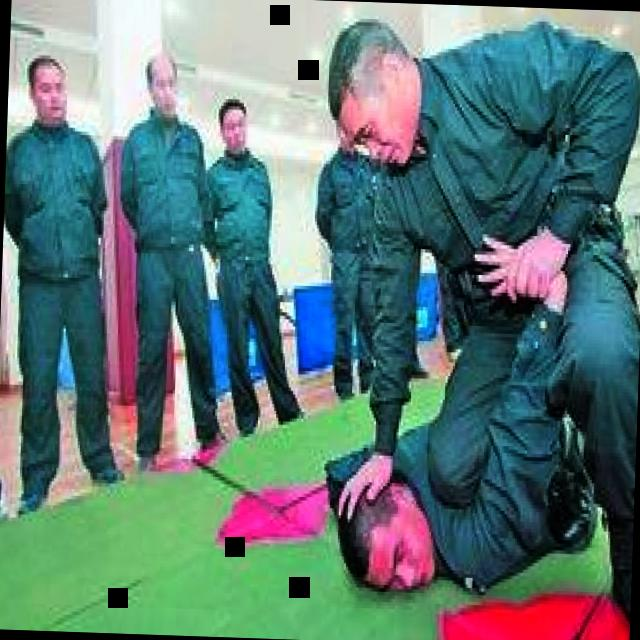Fall-Detected: (306, 259, 635, 610)
